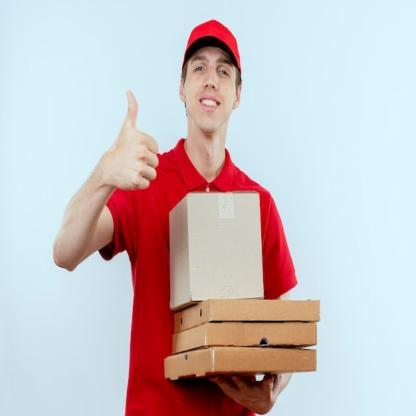thumb_up: (100, 88, 159, 192)
